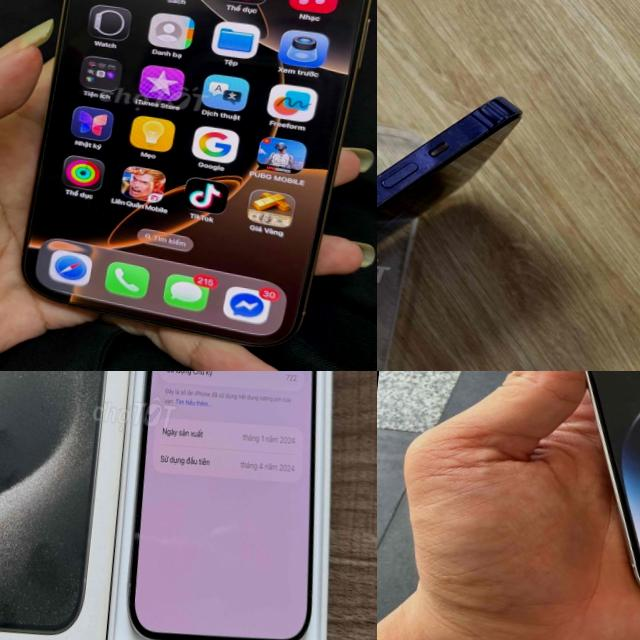gen_14: (377, 43, 533, 371), (498, 371, 640, 632)
gen_15: (105, 371, 359, 640)
gen_16: (0, 0, 377, 365)
